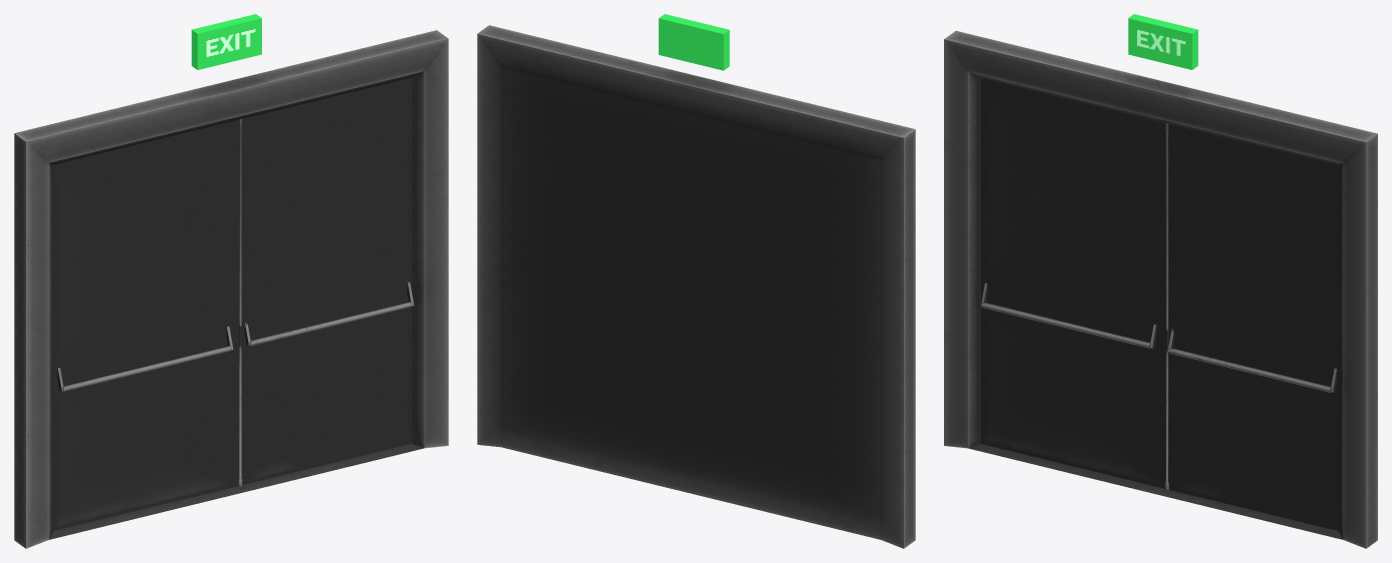
File: exitdoor.fbx
The picture shows the model from 3 angles, left to right: view 1: azimuth 30°, elevation 25°; view 2: azimuth 150°, elevation 25°; view 3: azimuth 330°, elevation 25°; orthographic projection.
Parts seen in each view (by area): view 1: Puerta salida; view 2: Puerta salida; view 3: Puerta salida.
Part boxes in pixels (<box>): Puerta salida: <box>14,14,448,548</box>; Puerta salida: <box>477,14,915,548</box>; Puerta salida: <box>944,14,1377,548</box>.
Size of the model in its own units: 655 by 691 by 33.05.
